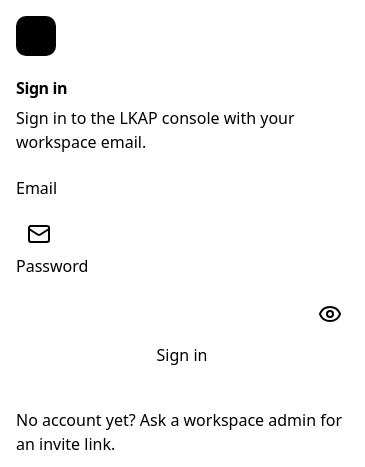
Test case: LoginForm › disables the form and shows a busy label while signing in
Type "owner@local" into the field labelled "Email".
click(182, 222); type("owner@local")  # box [16, 204, 348, 240]
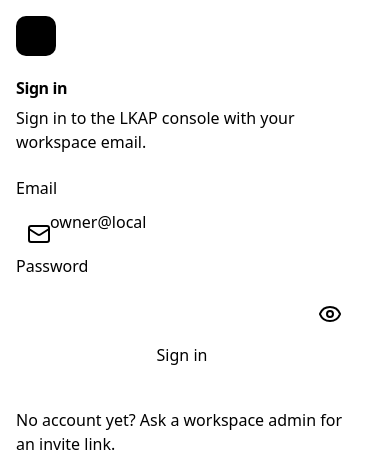
Type "hunter22" into the password field labelled "Password".
click(182, 300); type("hunter22")  # box [16, 282, 348, 318]
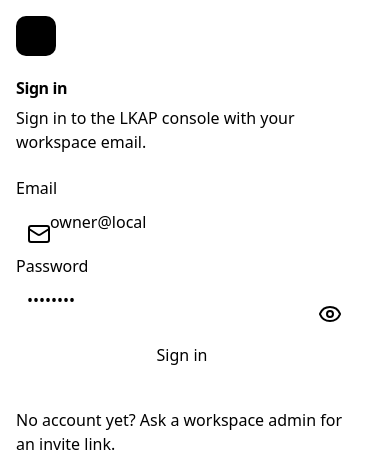
Click the button "Sign in".
click(182, 355)  # box [16, 338, 348, 372]
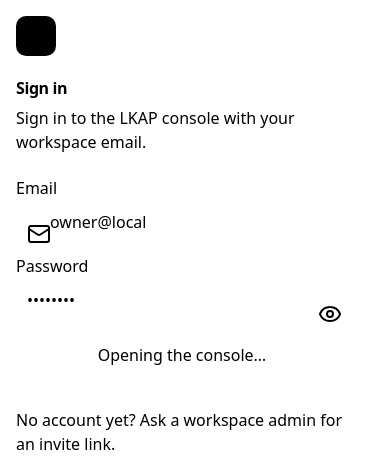
expect the field labelled "Email" is disabled: met, box [16, 204, 348, 240]
expect the button named "Signing in…" is disabled: met, box [16, 338, 348, 372]
